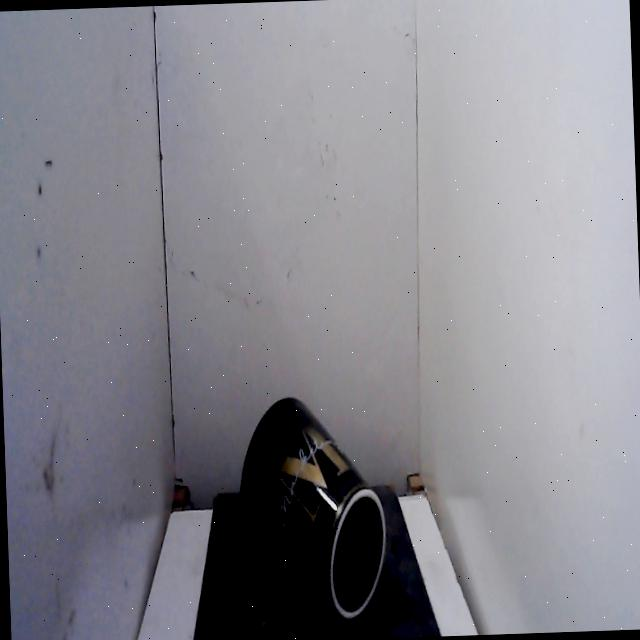glass: (226, 386, 400, 628)
